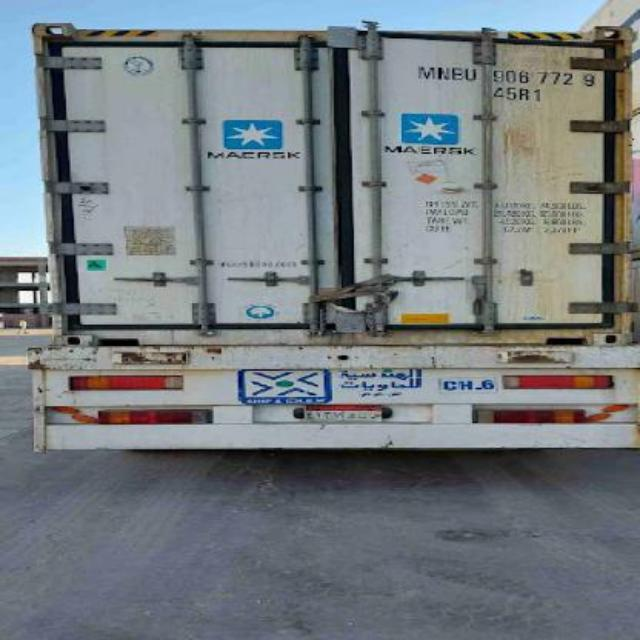0: (504, 70, 518, 86)
2: (564, 71, 576, 91)
6: (516, 69, 534, 87)
7: (550, 68, 564, 92), (536, 70, 548, 90)
9: (488, 68, 504, 84), (582, 72, 598, 88)
B: (452, 64, 464, 86)
M: (411, 64, 432, 84)
N: (438, 66, 452, 82)
U: (461, 65, 482, 85)
